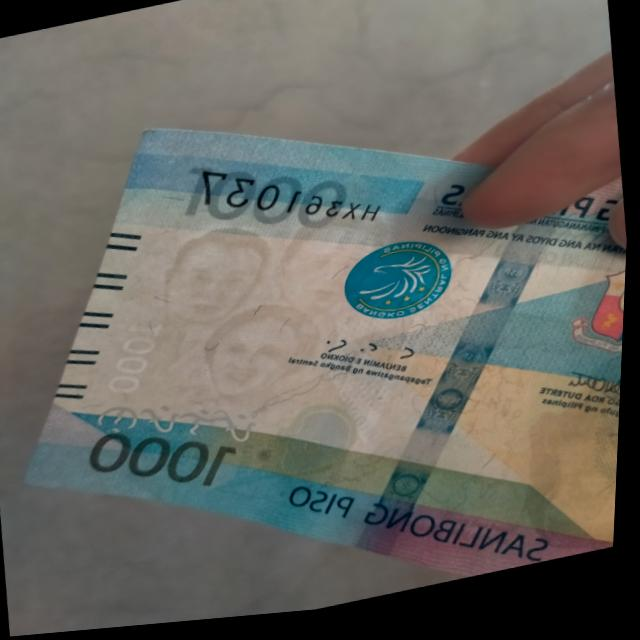security_thread: (316, 177, 617, 573)
see_through_mark: (79, 367, 282, 484)
value_watermark: (97, 305, 177, 411)
watermark: (143, 197, 413, 425)
